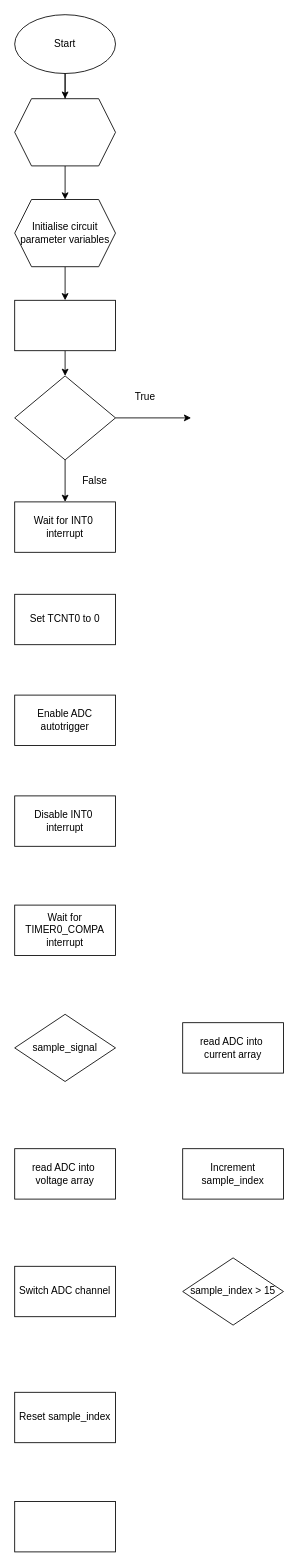
The diagram is 298 pixels wide and 1567 high, and some of its shapes have lost their labels. The shapes that lost their labels are listed below. From the top down, each one's centre as x and y in pixels, then its label:
the point at 65,132: Initialise UART, ADC, display, timer0, and interrupts
the point at 65,325: Load 0.00V onto display
the point at 65,417: sampling complete flag
